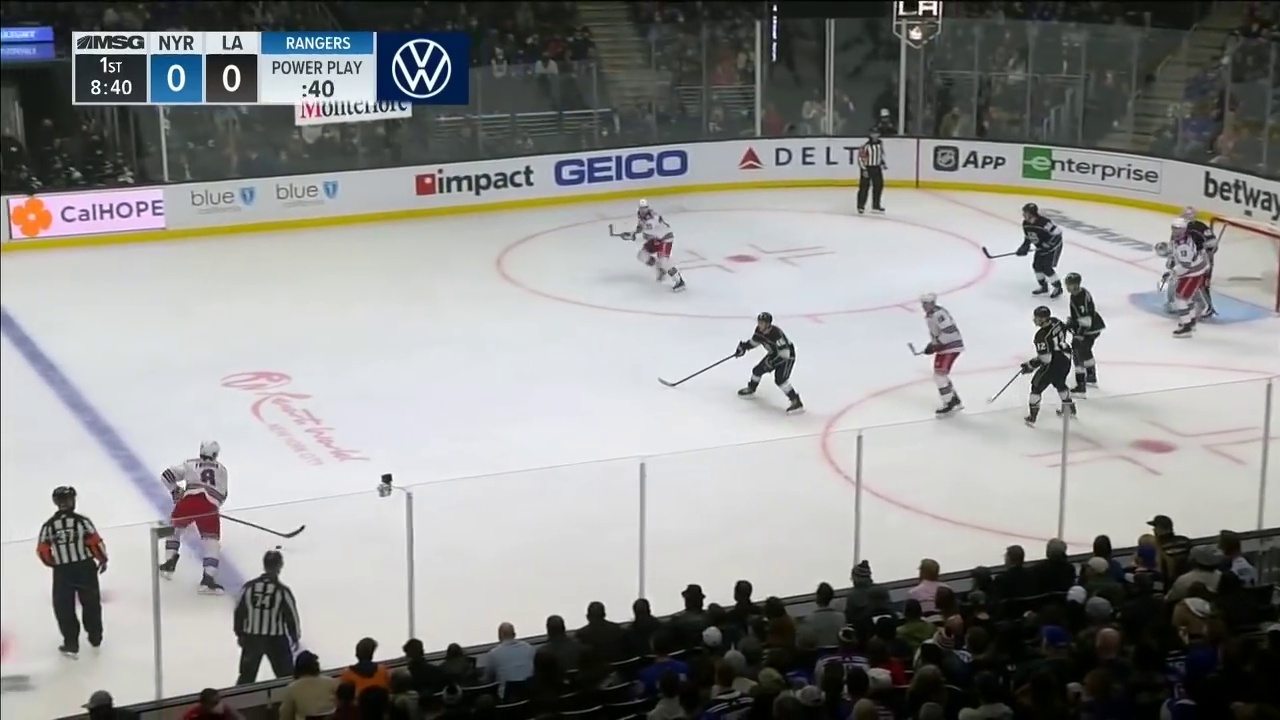goalie: (1155, 206, 1218, 319)
hockeyplayer: (161, 439, 229, 596), (734, 311, 805, 416), (1021, 306, 1077, 428), (620, 199, 685, 293), (919, 291, 965, 419), (1161, 218, 1209, 338), (1064, 273, 1106, 399), (1016, 203, 1063, 301)
referee: (36, 486, 109, 659), (233, 550, 302, 685), (856, 127, 888, 216)
